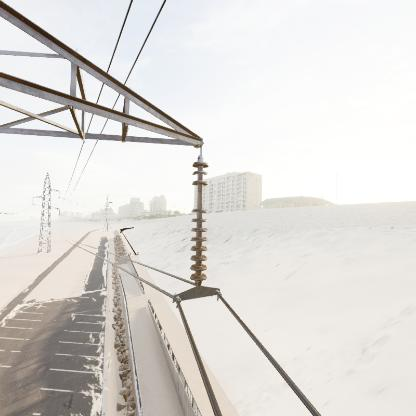insulator: (188, 157, 212, 288)
tower: (30, 169, 64, 258)
